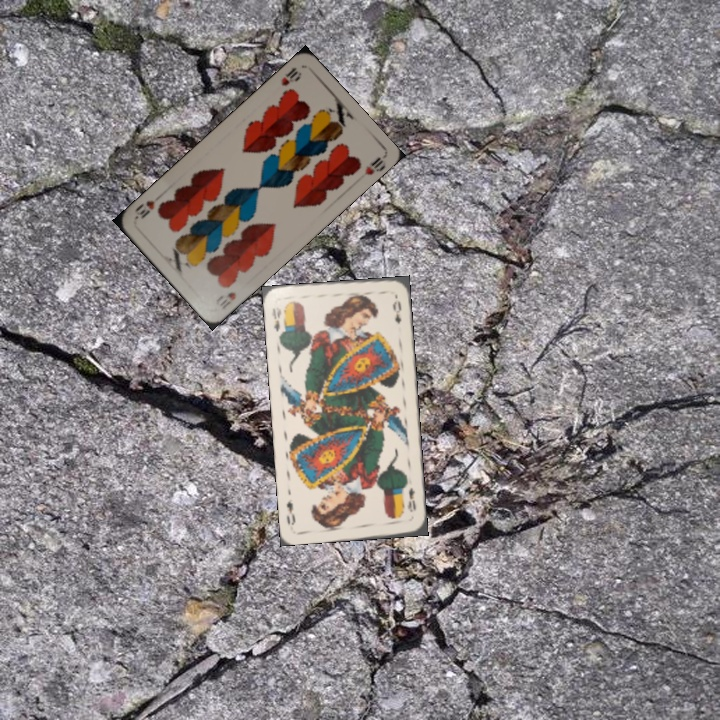EO: (268, 303, 284, 334), (404, 484, 418, 514)
H10: (277, 63, 304, 89), (212, 288, 238, 308)
